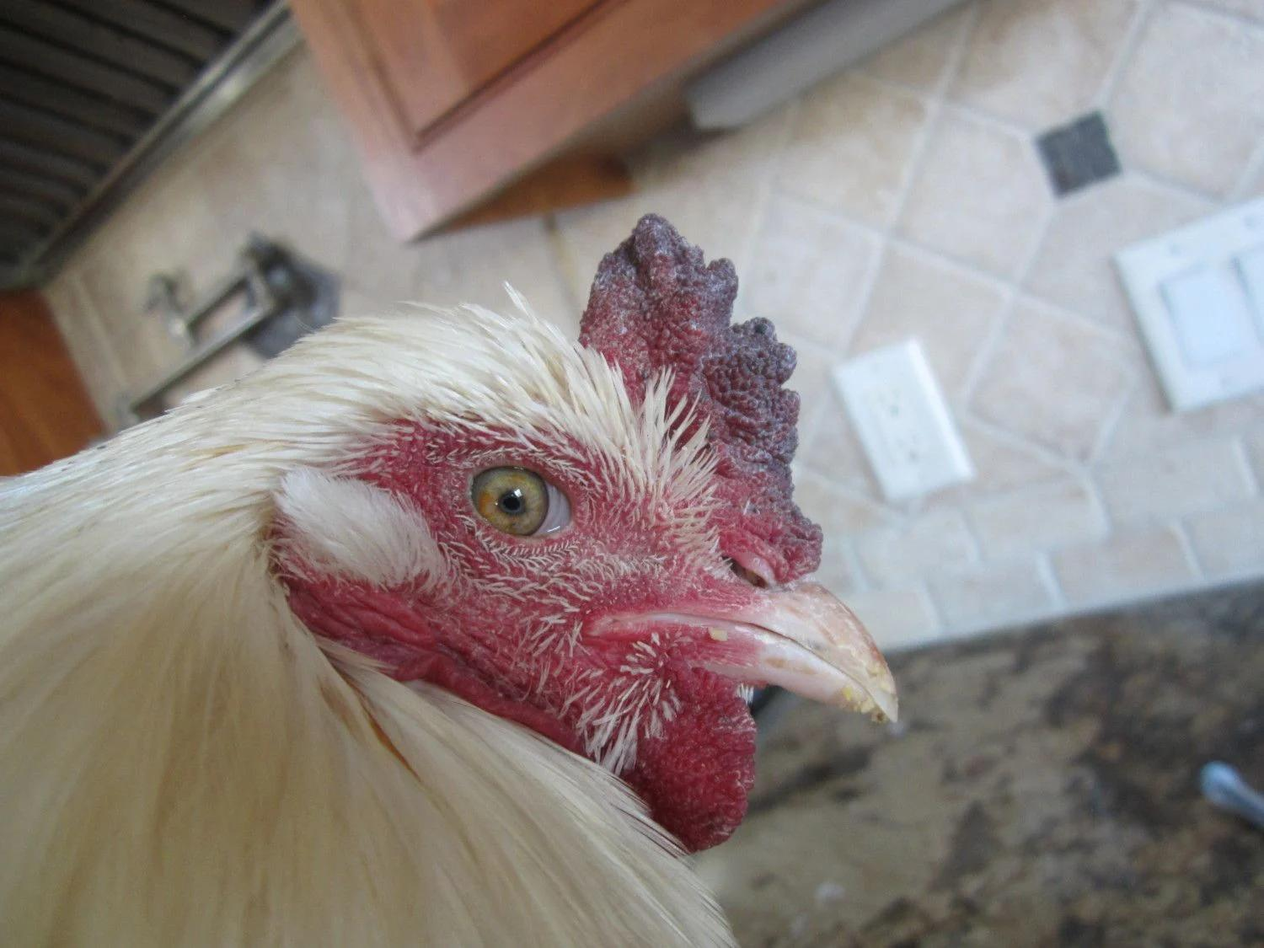AbNormal: (586, 220, 818, 585)
